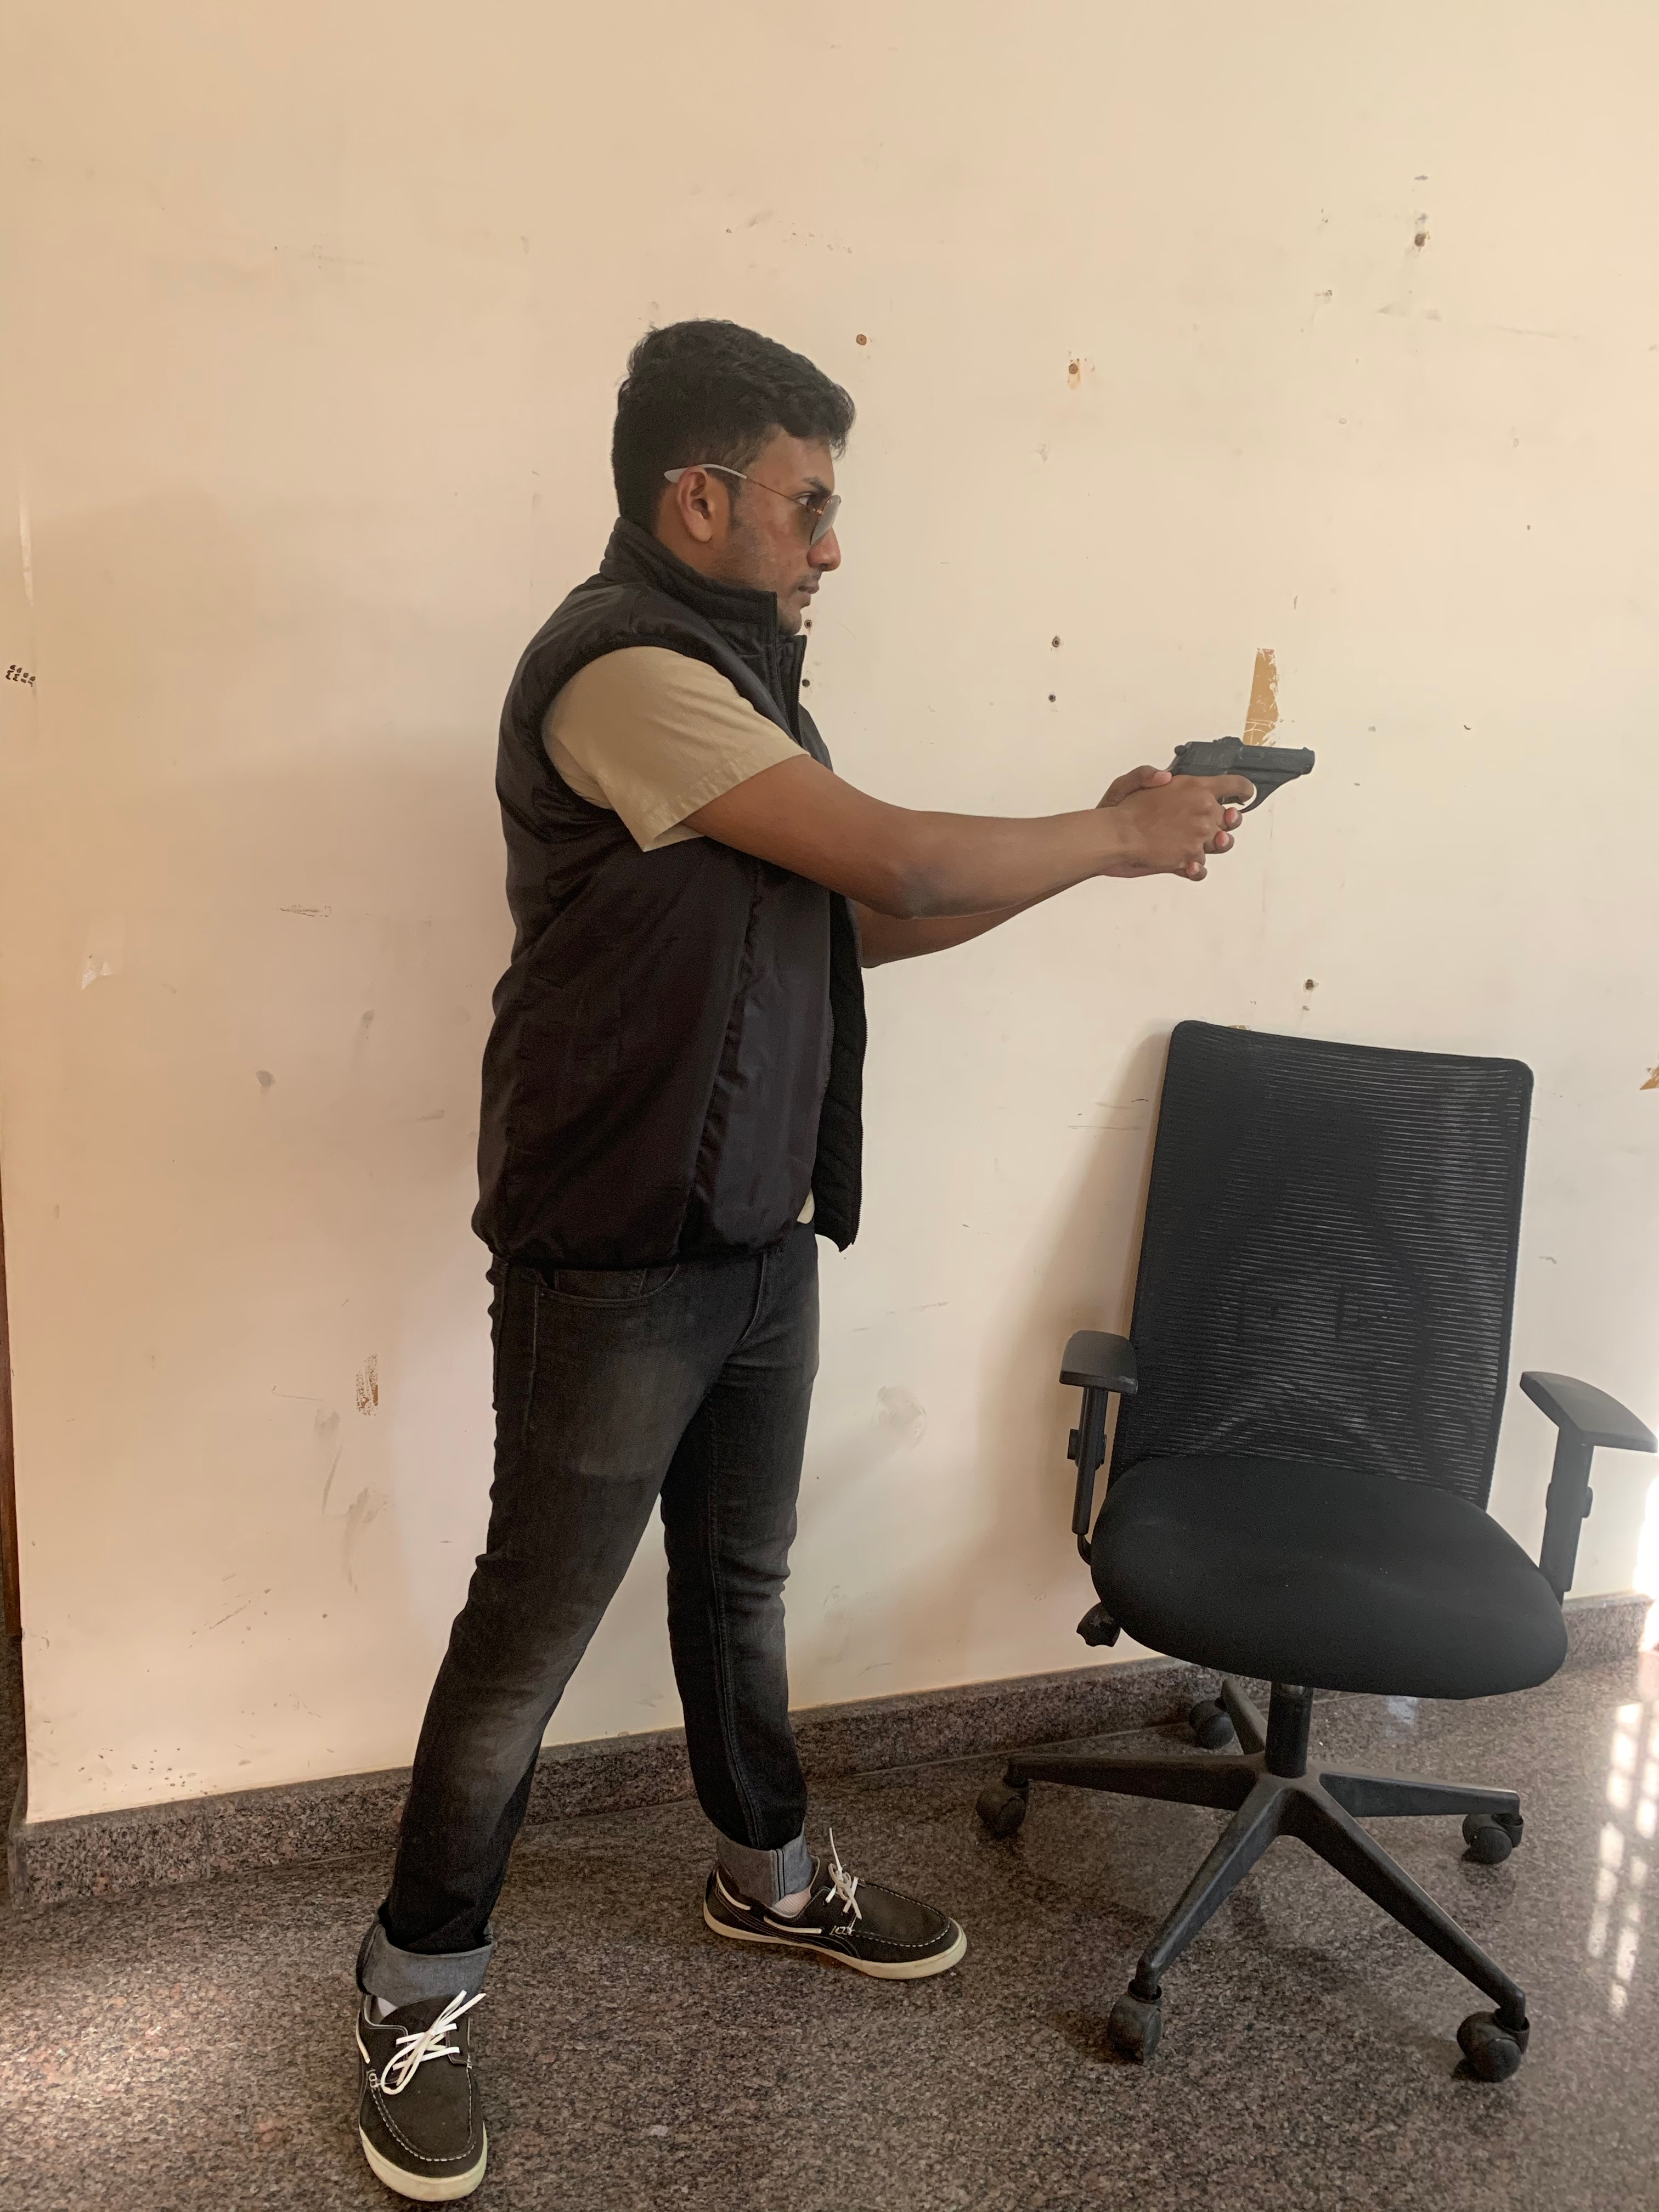gun: (1166, 730, 1319, 843)
